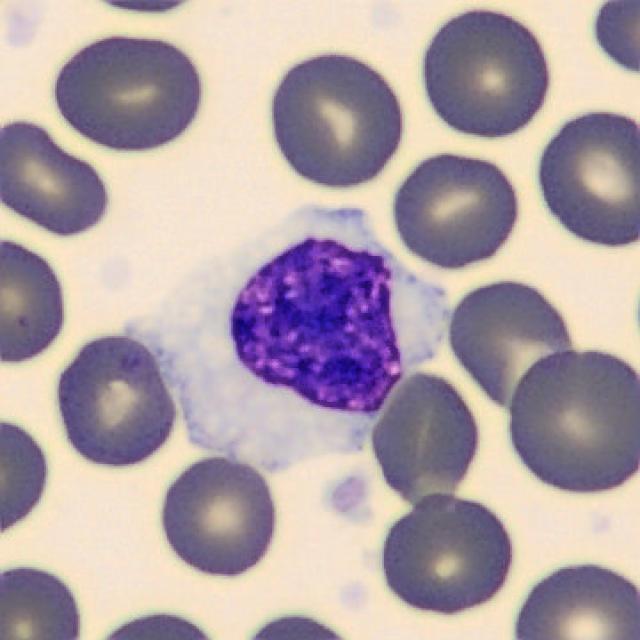Linfocito atipico: (124, 206, 450, 471)
